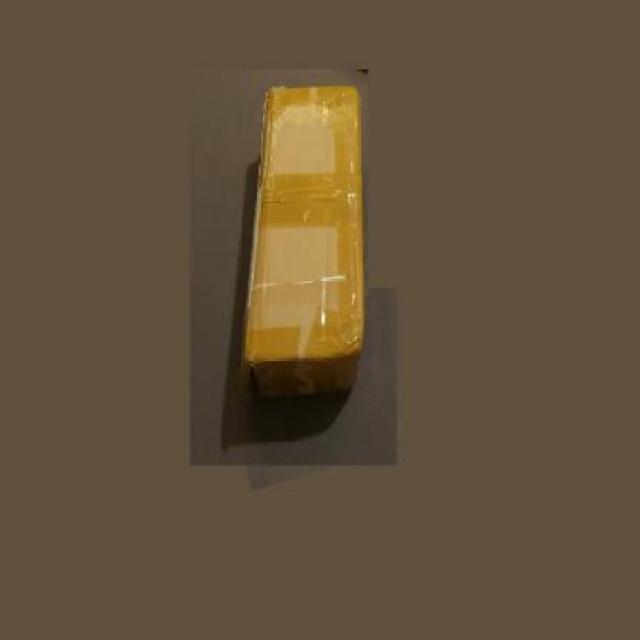box: (236, 83, 370, 406)
